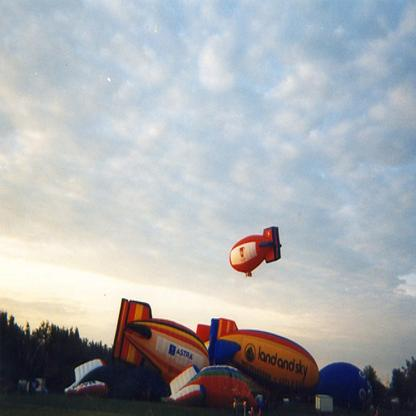Airship: (222, 224, 286, 285)
